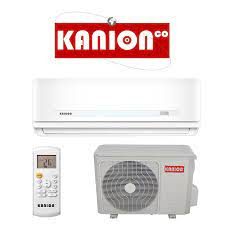ac: (32, 73, 207, 136)
